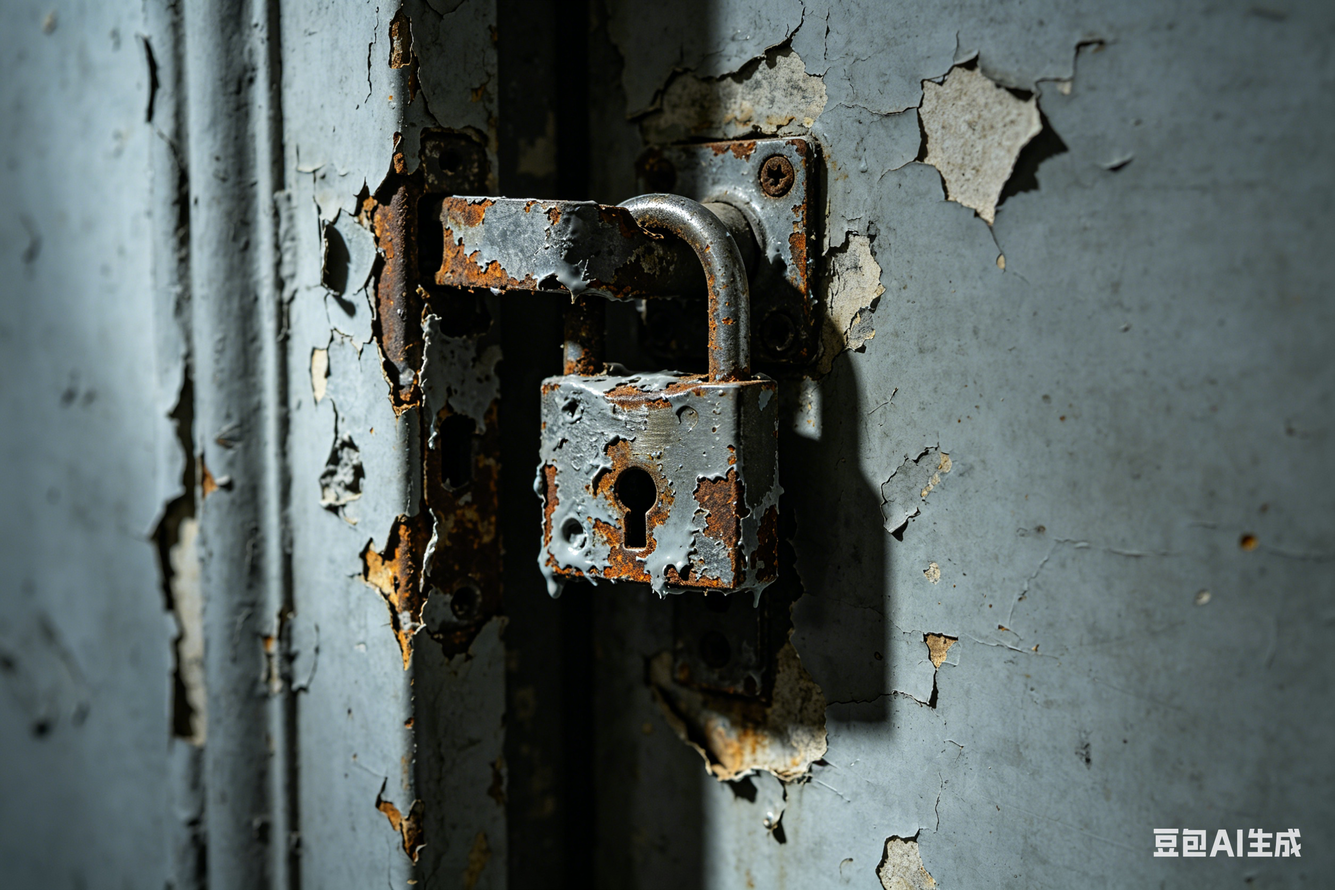BadLock: (511, 169, 773, 610)
